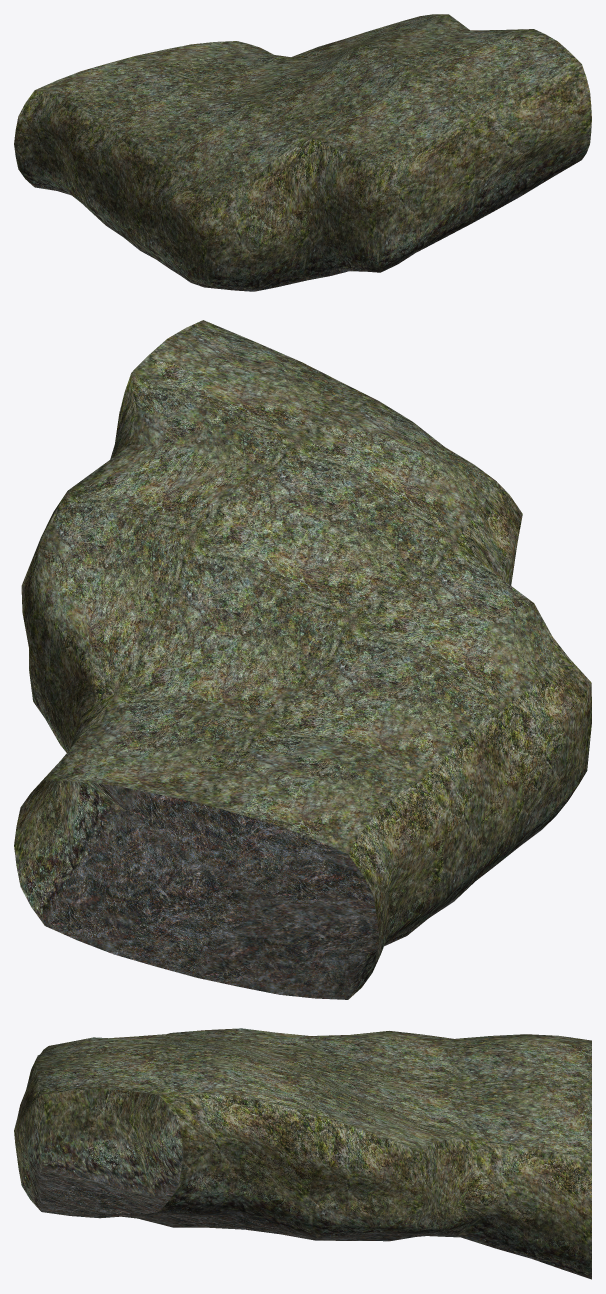
Rendered from thm_all_cave_s03_damprock_r4_r4.fbx.
3 views of the same model, one above another, from view 1: azimuth 30°, elevation 25°; view 2: azimuth 150°, elevation 25°; view 3: azimuth 270°, elevation 25° (orthographic). The views are drawn at different scales.
Visible parts, largest first — view 1: mesh_node; view 2: mesh_node; view 3: mesh_node.
Boxes of the visible parts, box(x1,y1,x2,y2) form: mesh_node: box(14, 14, 591, 291); mesh_node: box(14, 320, 591, 999); mesh_node: box(14, 1028, 591, 1279).
Bounding box in the file's own units: 26.79 × 16.79 × 32.05.
